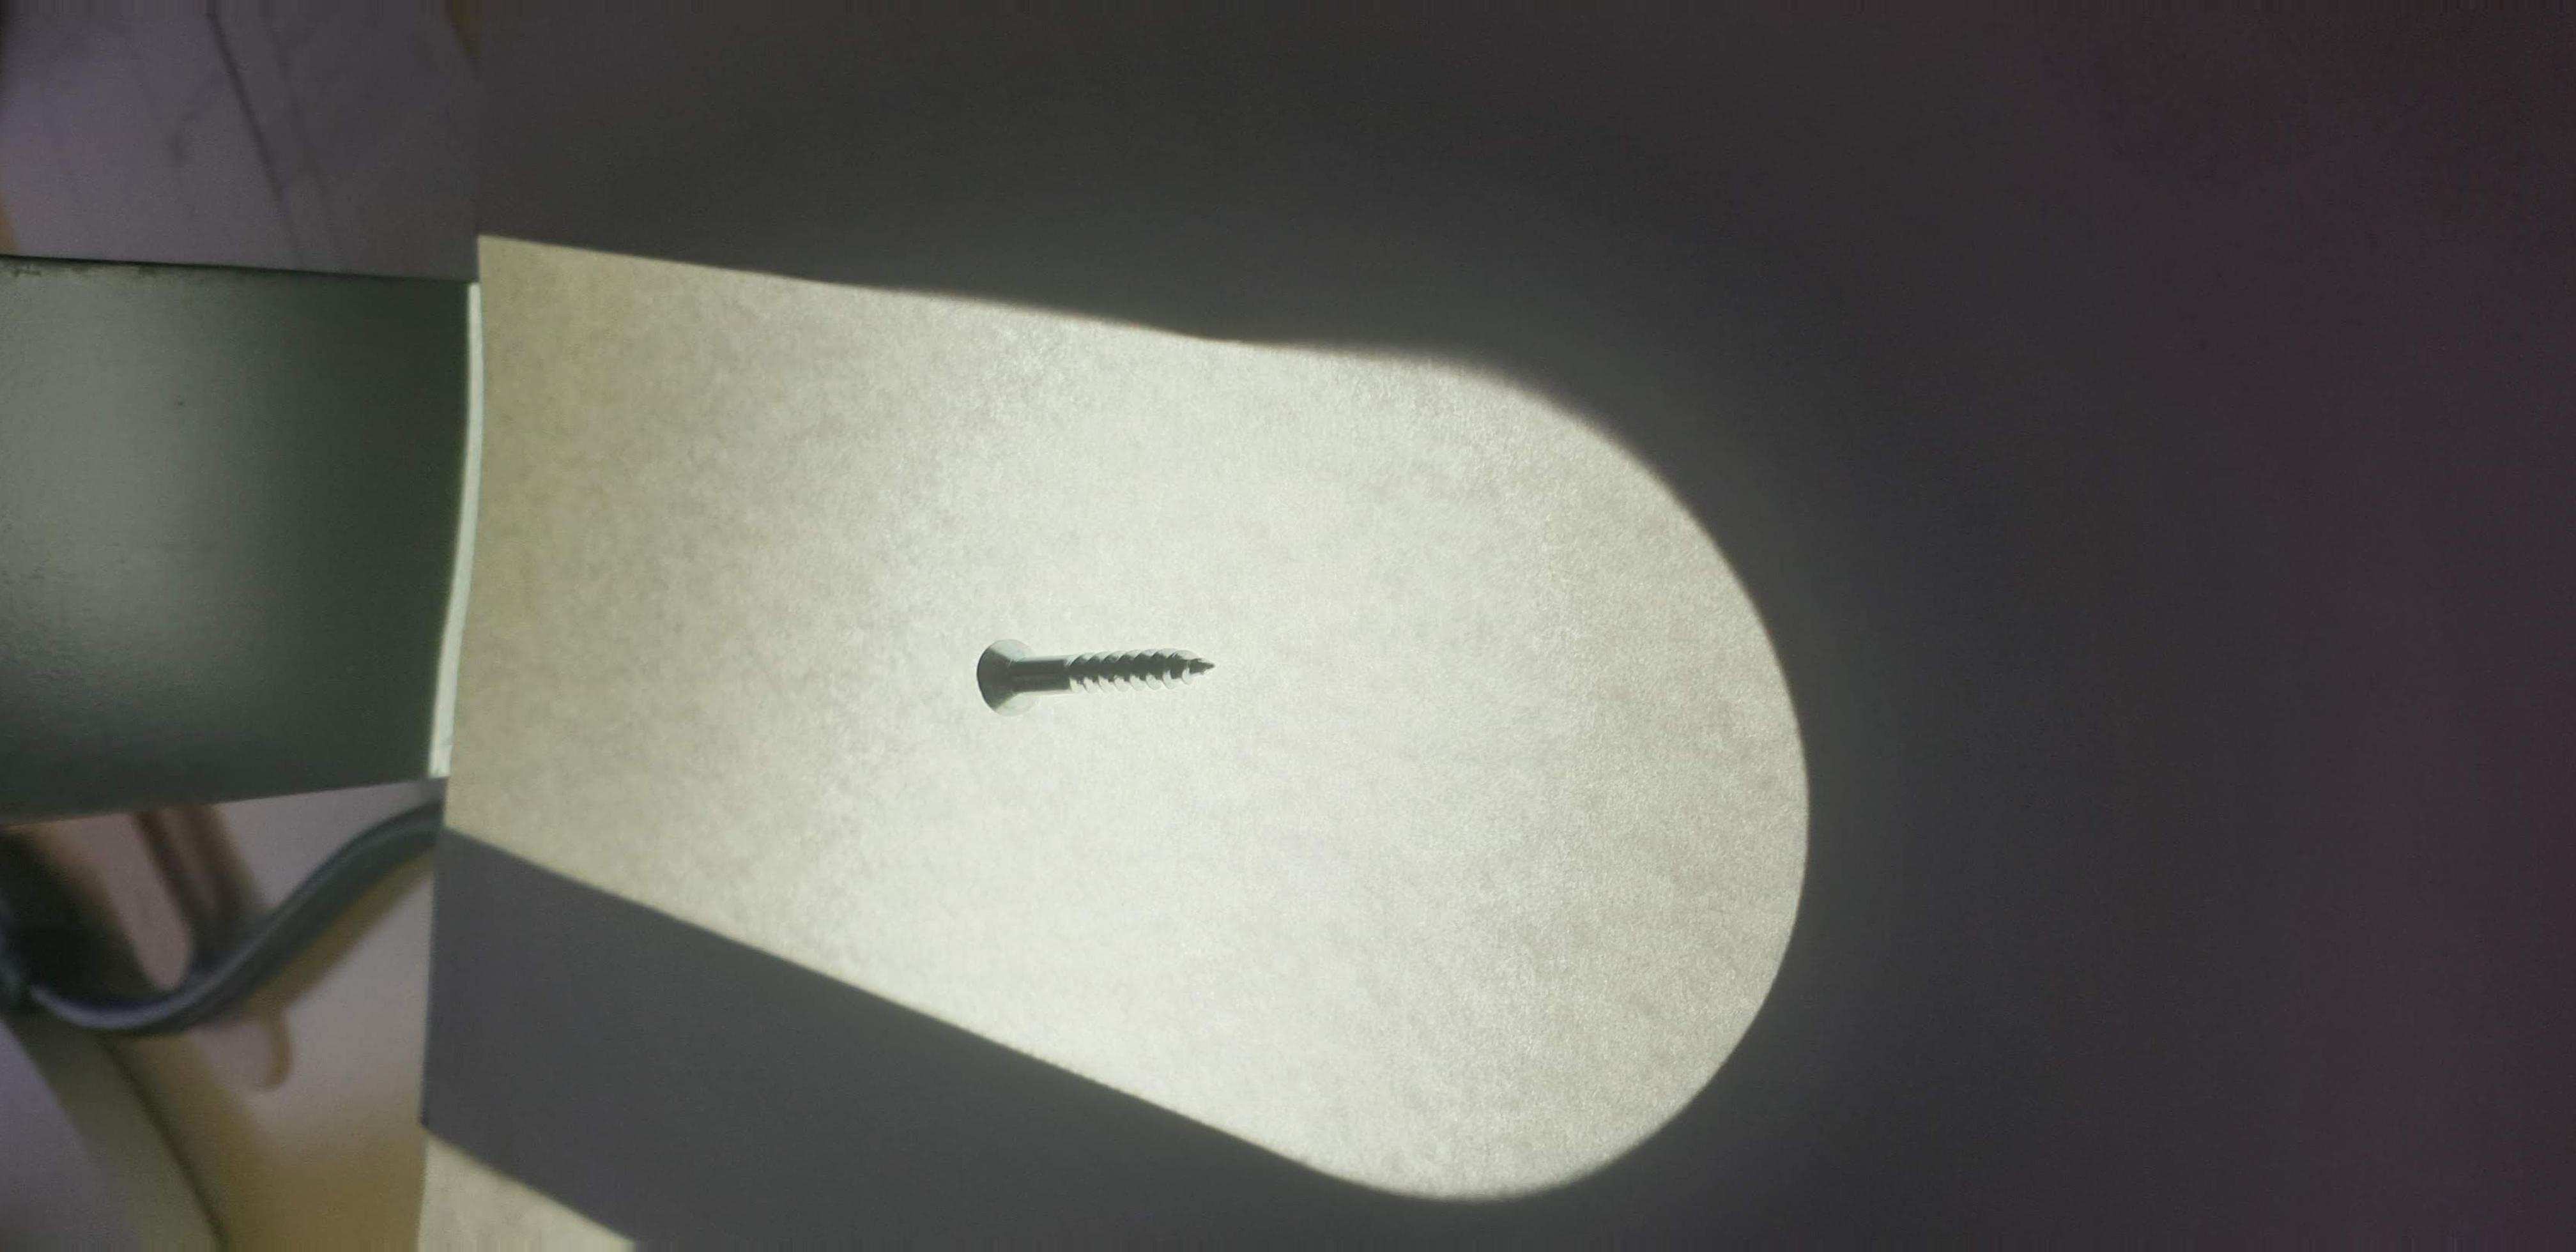S005: (920, 611, 1275, 744)
